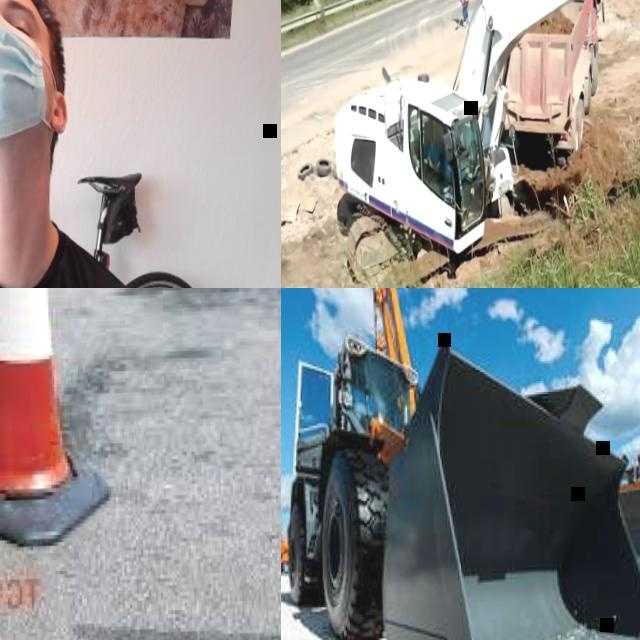Mask: (0, 13, 61, 145)
NO-Hardhat: (0, 0, 65, 22)
NO-Safety Vest: (429, 147, 439, 170)
Person: (0, 0, 169, 288), (427, 127, 462, 185), (457, 0, 469, 28)
Safety Cone: (0, 288, 107, 551)
Safety Vest: (461, 0, 468, 5)
machinery: (281, 288, 640, 640), (326, 0, 640, 288), (499, 0, 606, 167)
